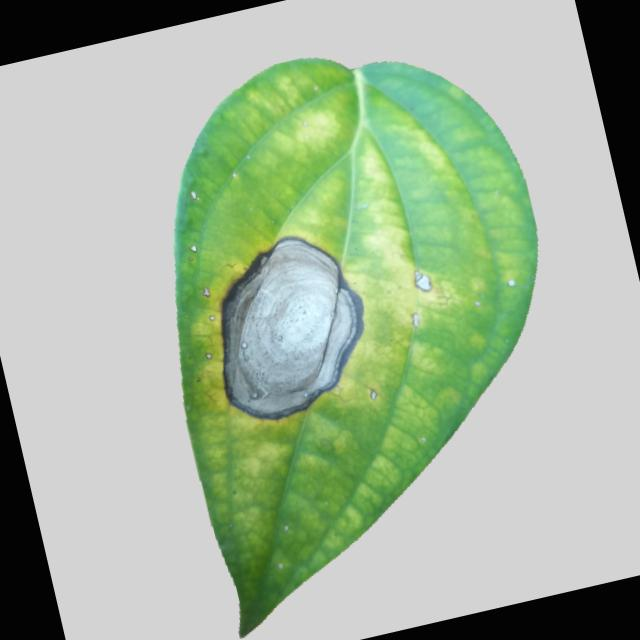leaf-blight: (101, 25, 636, 640)
